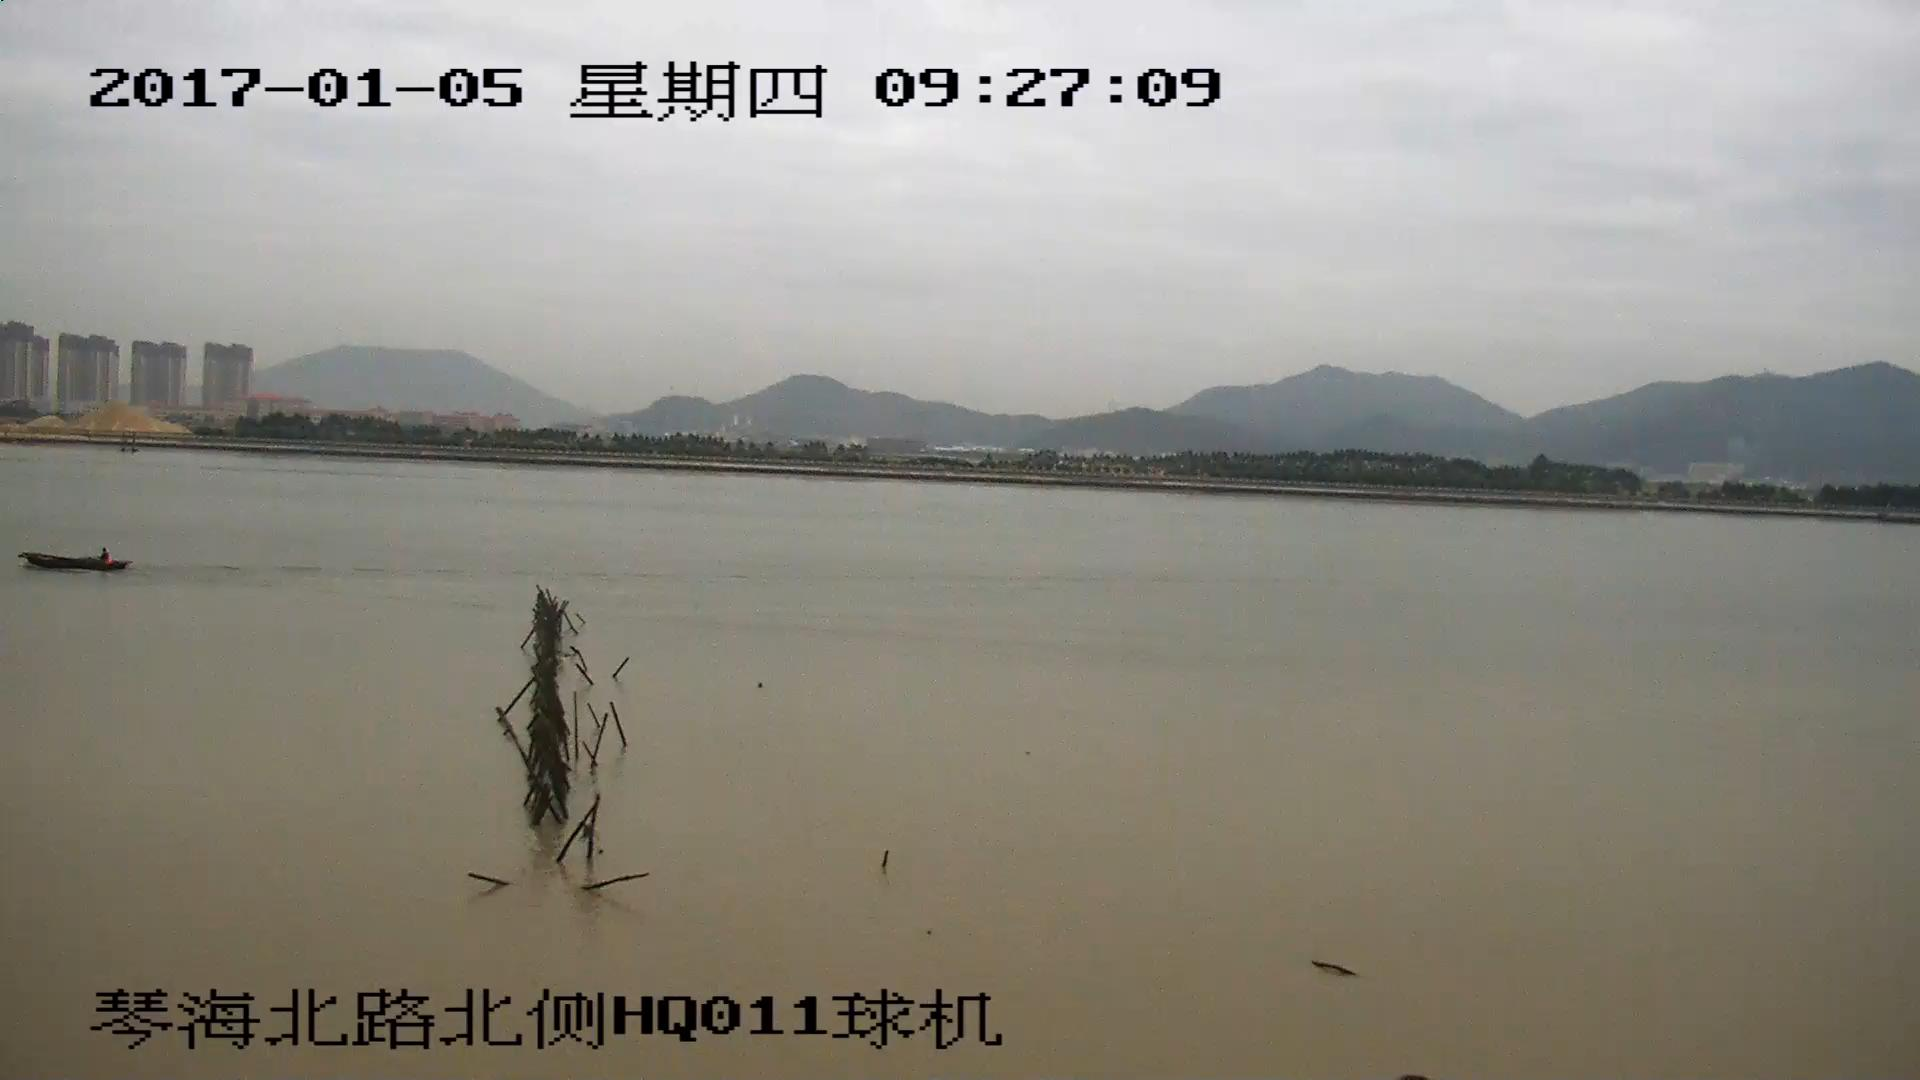fishing boat: (20, 548, 132, 574)
